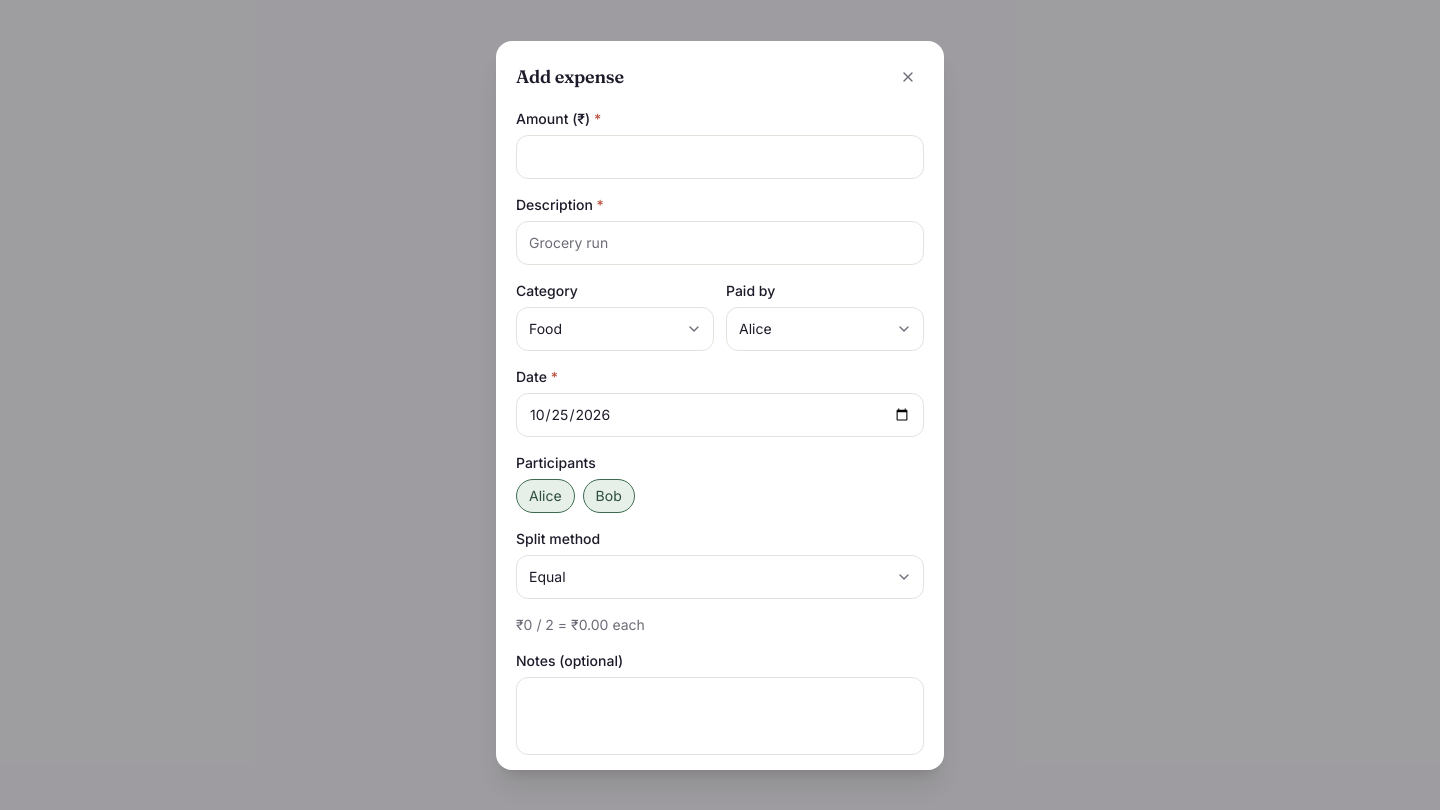
AddExpenseModal › validates exact split sum mismatch
Type "100" into the number field labelled "Amount (₹) *".
click(720, 156); type("100")  # box [516,134,924,178]
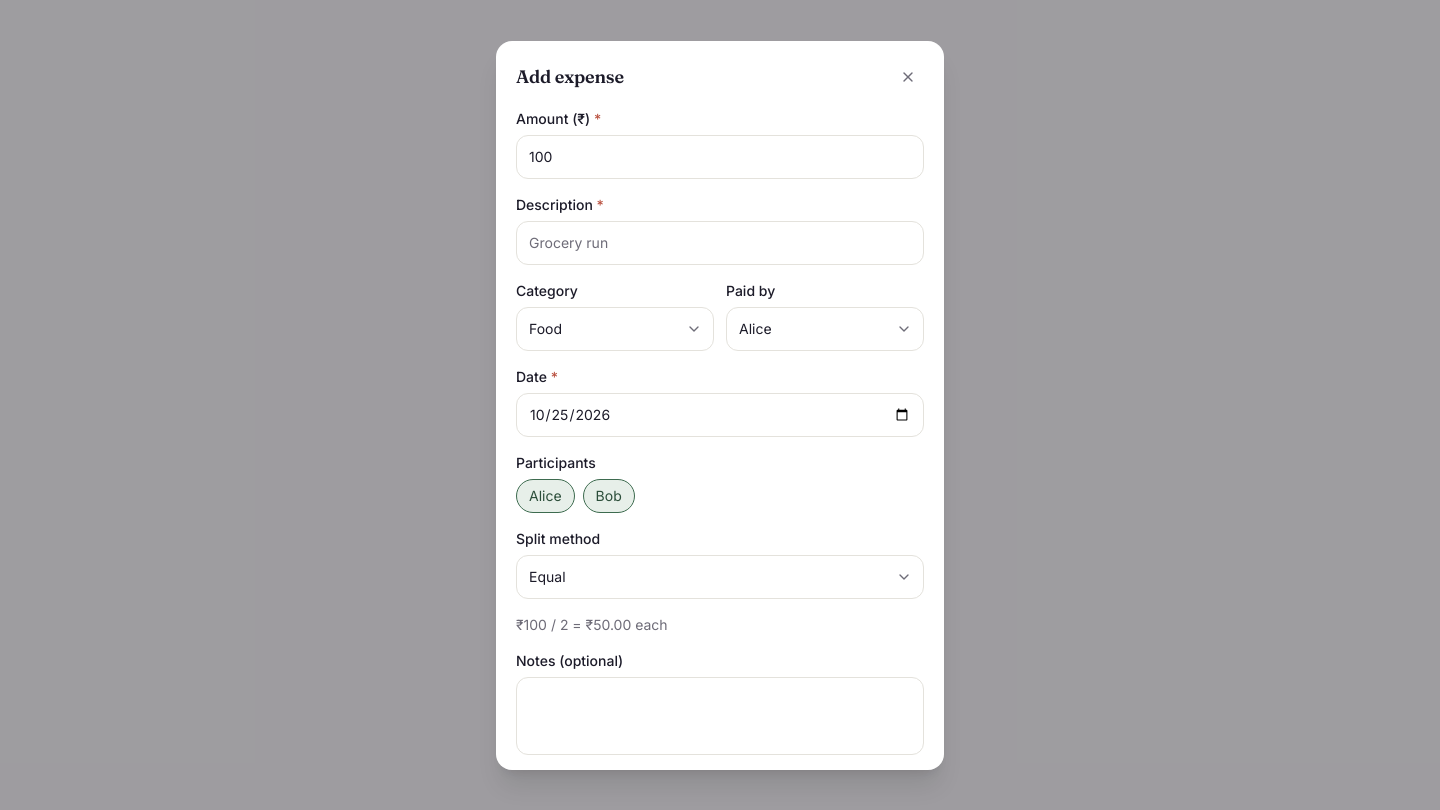
Type "Dinner" into the field labelled "Description *".
click(720, 242); type("Dinner")  # box [516,220,924,264]
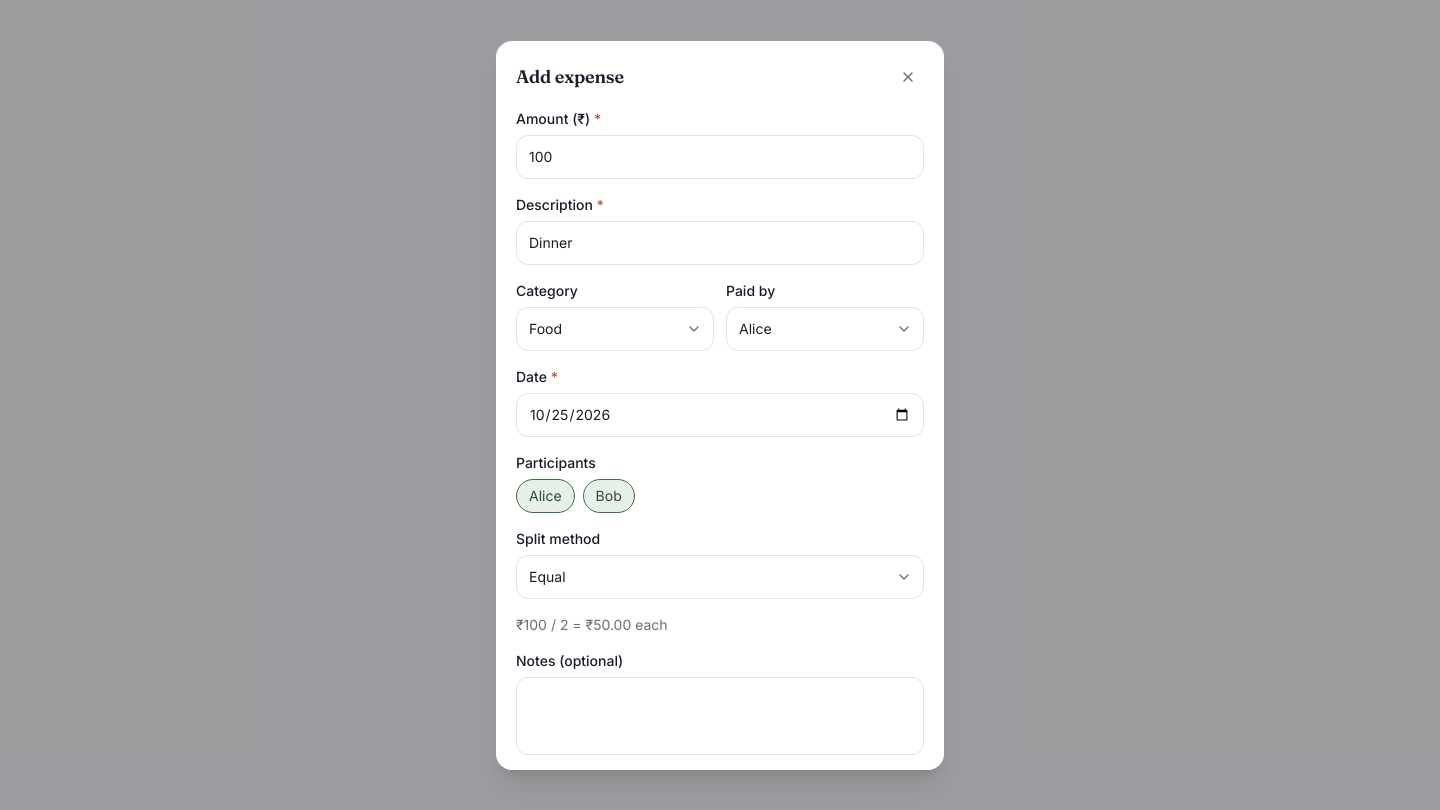
Select "Exact amount" in the dropdown labelled "Split method" at (720, 576), box [516,554,924,598]
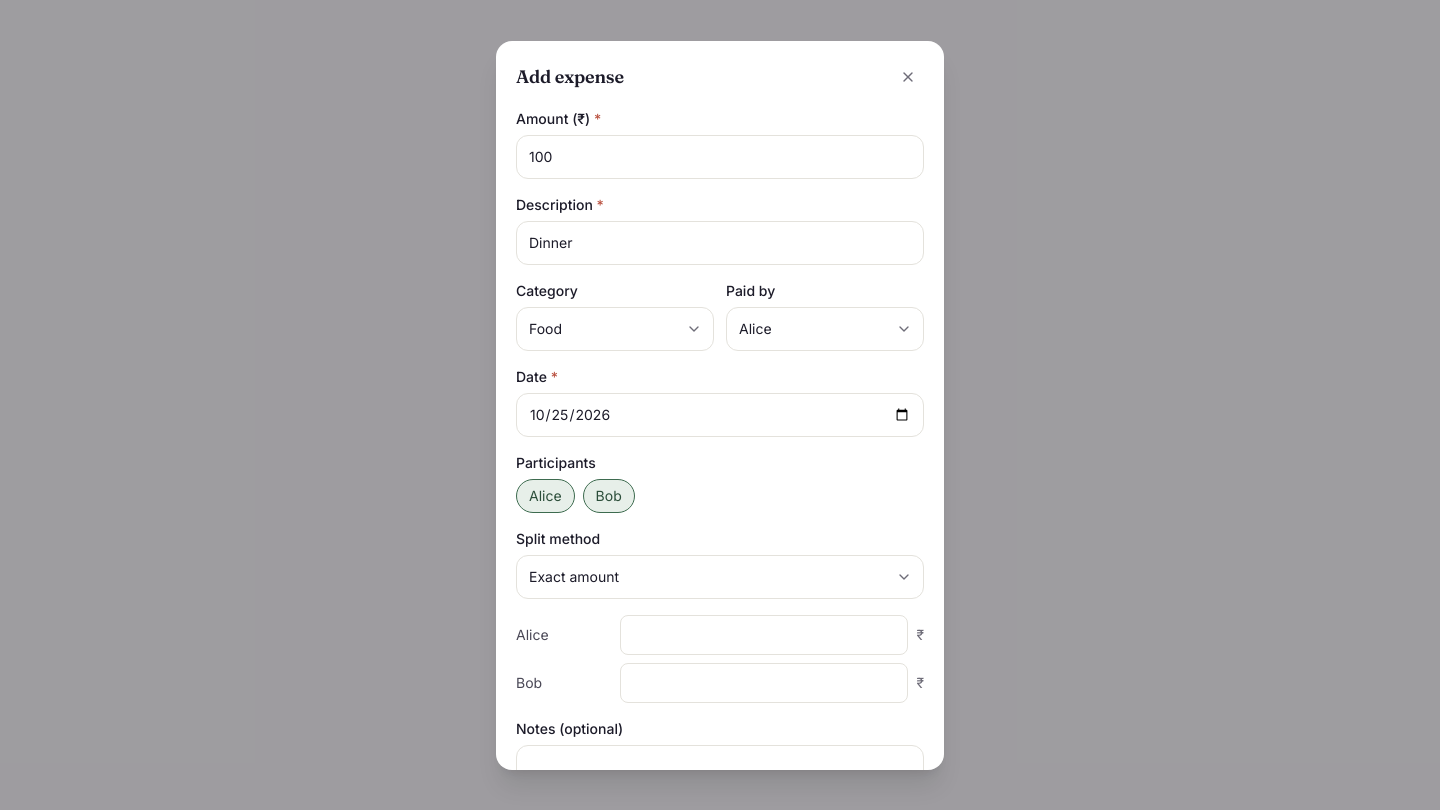
// Input exact amounts that don't add up to 100
Type "40" into the number field named "amount for alice".
click(764, 634); type("40")  # box [620,614,908,654]
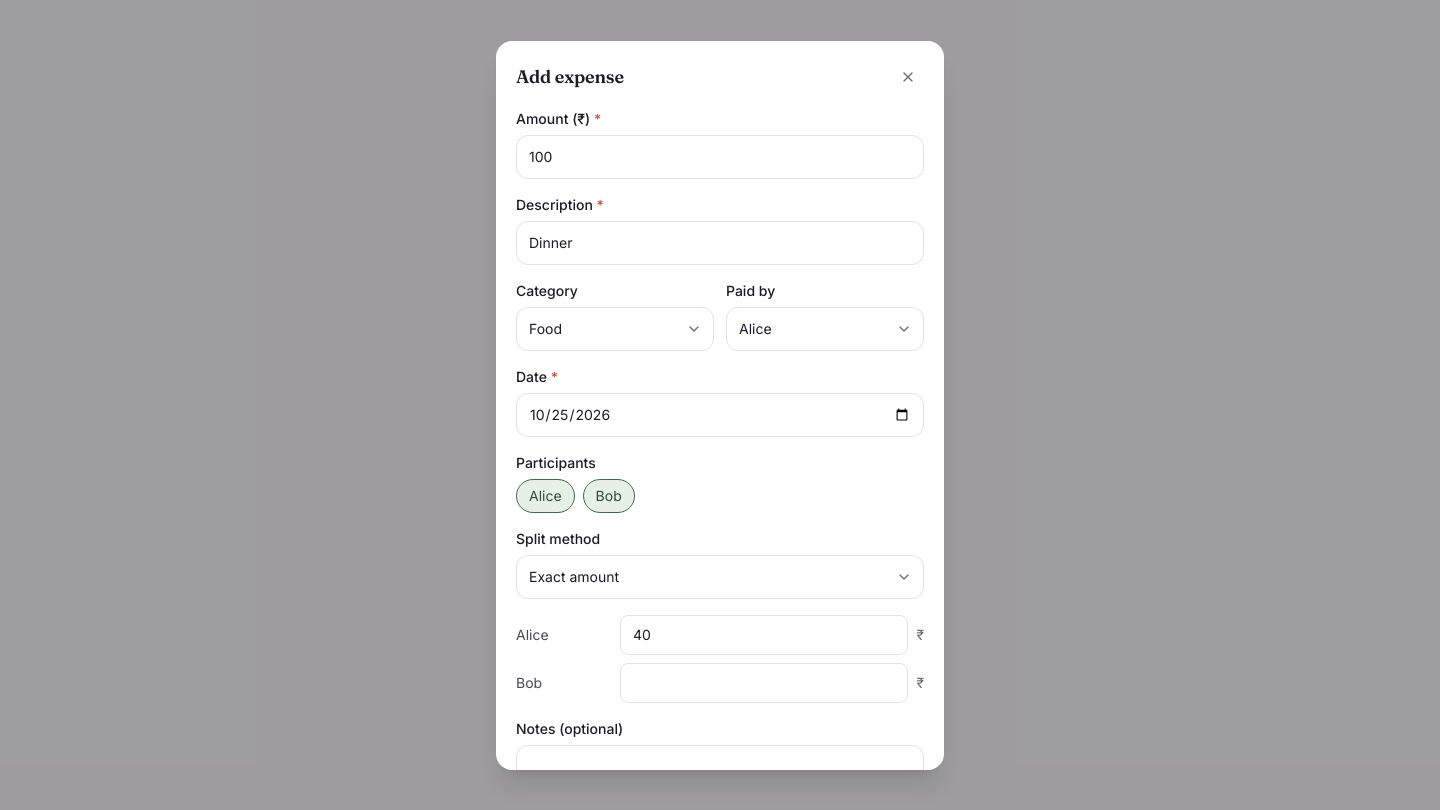
Type "40" into the number field named "amount for bob".
click(764, 682); type("40")  # box [620,662,908,702]
(page scrolled)
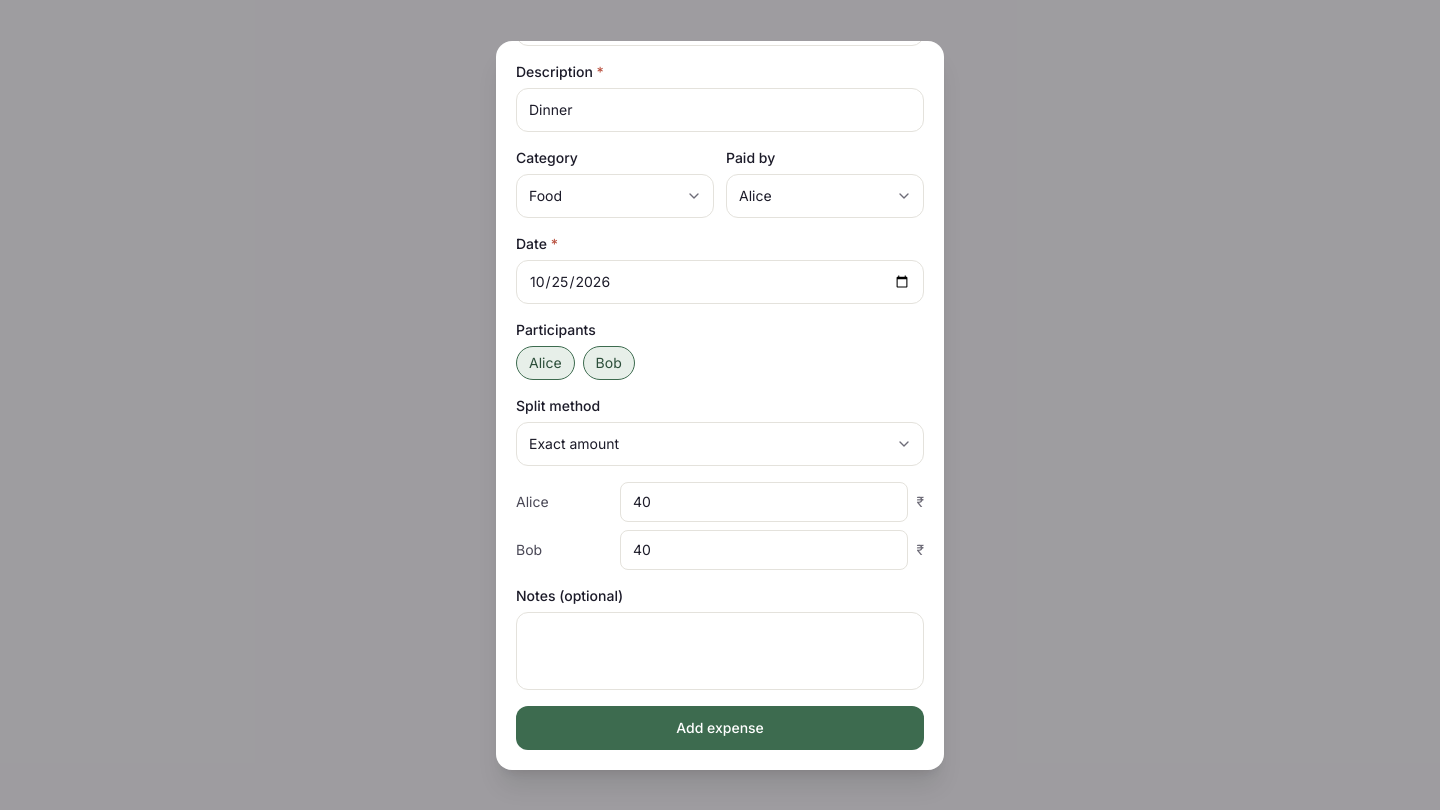
Click the button "Add expense".
click(720, 728)  # box [516,706,924,750]
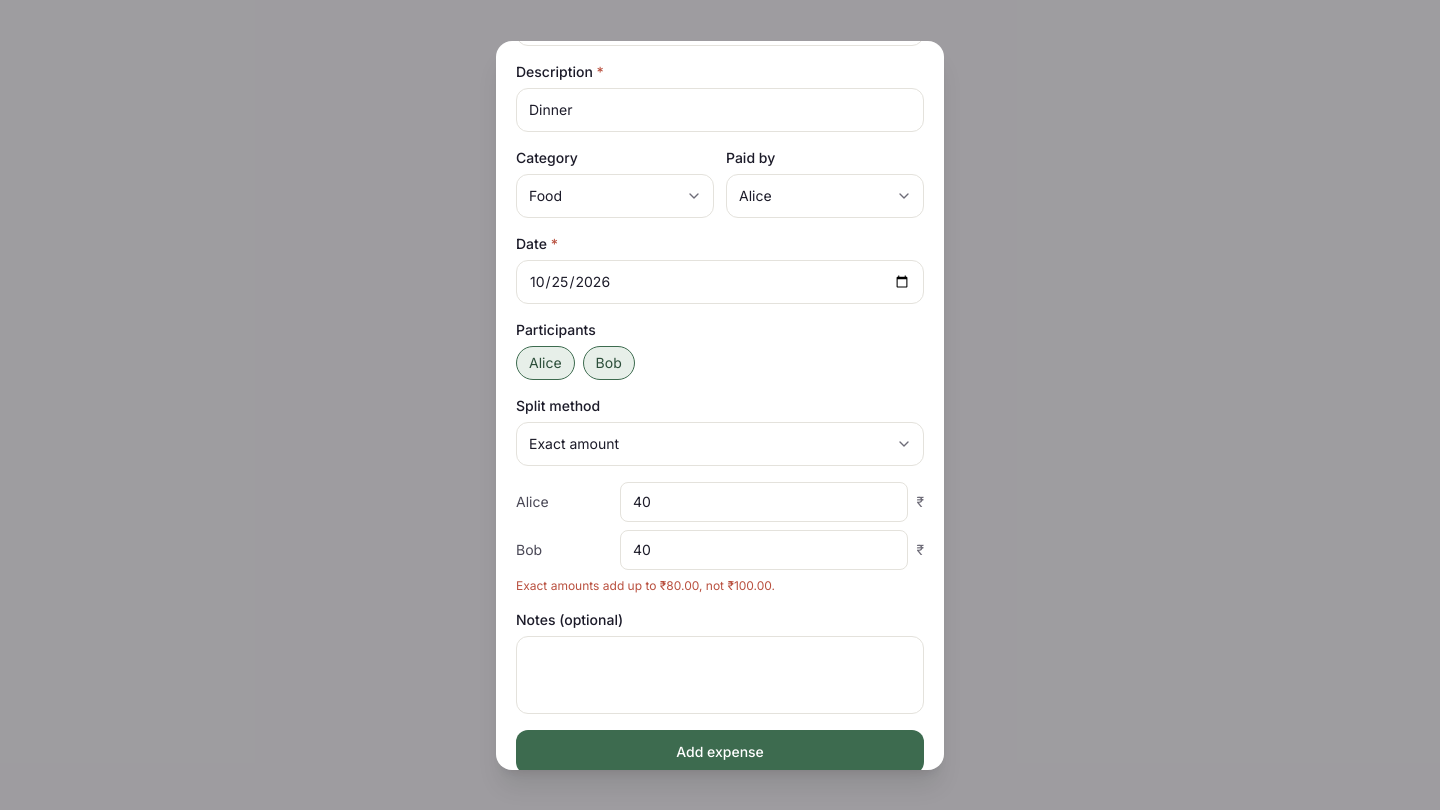
Check: the text "Exact amounts add up to ₹80.00, not ₹100.00." is shown, box [516,578,775,592]
